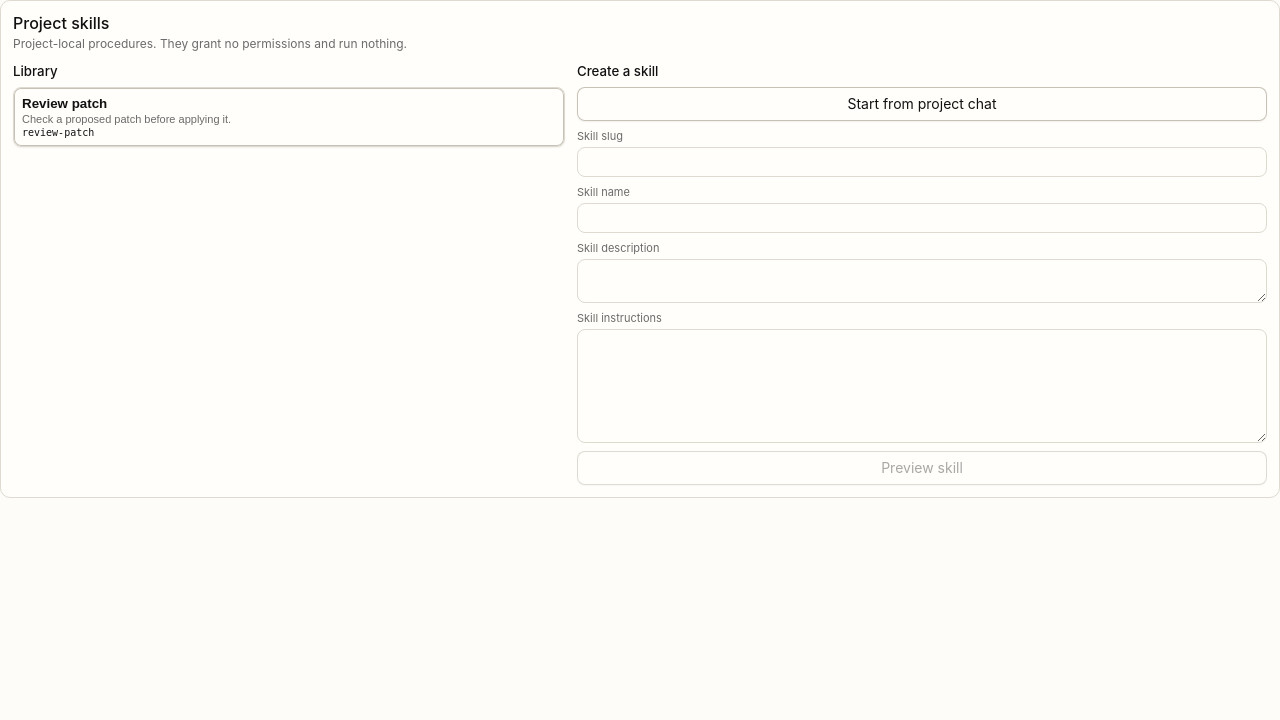
SkillsPanel › requires an exact preview before explicit apply
expect the button "Review patch" is shown: met, box [13,87,565,147]
Type "new-skill" into the field labelled "Skill slug" at (922, 162), box [577,147,1267,177]
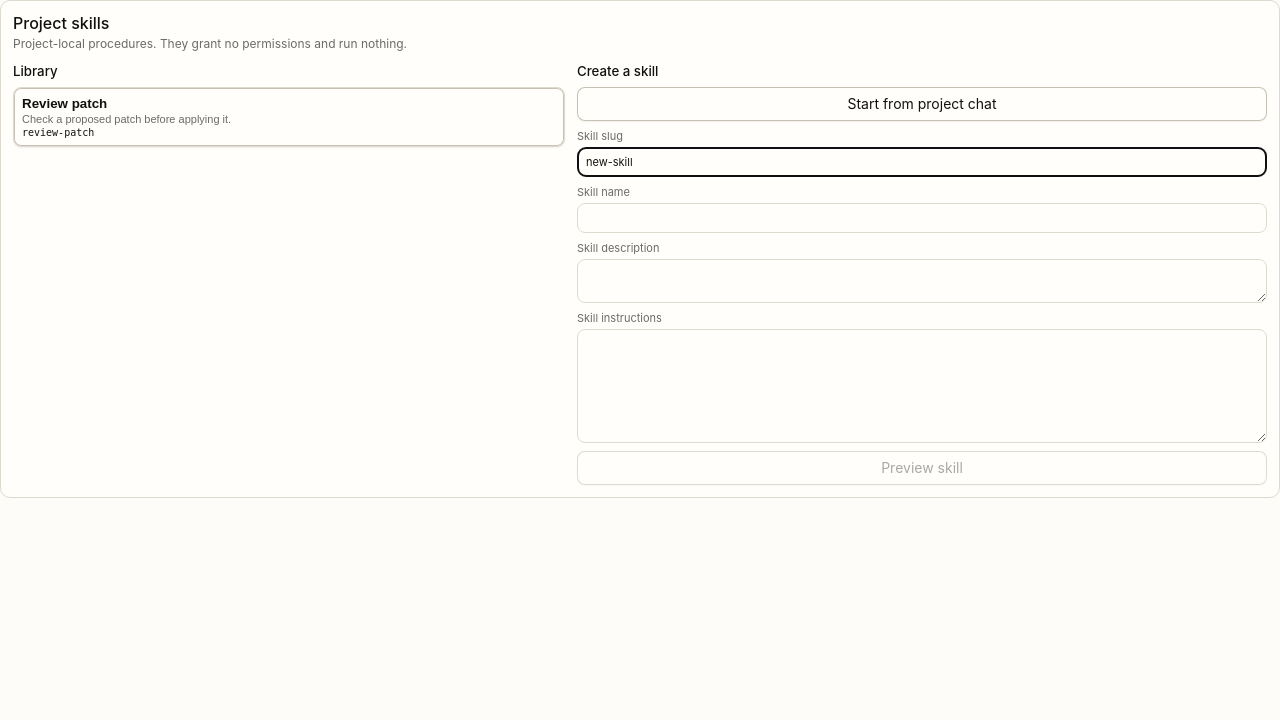
Type "New skill" into the field labelled "Skill name" at (922, 218), box [577,203,1267,233]
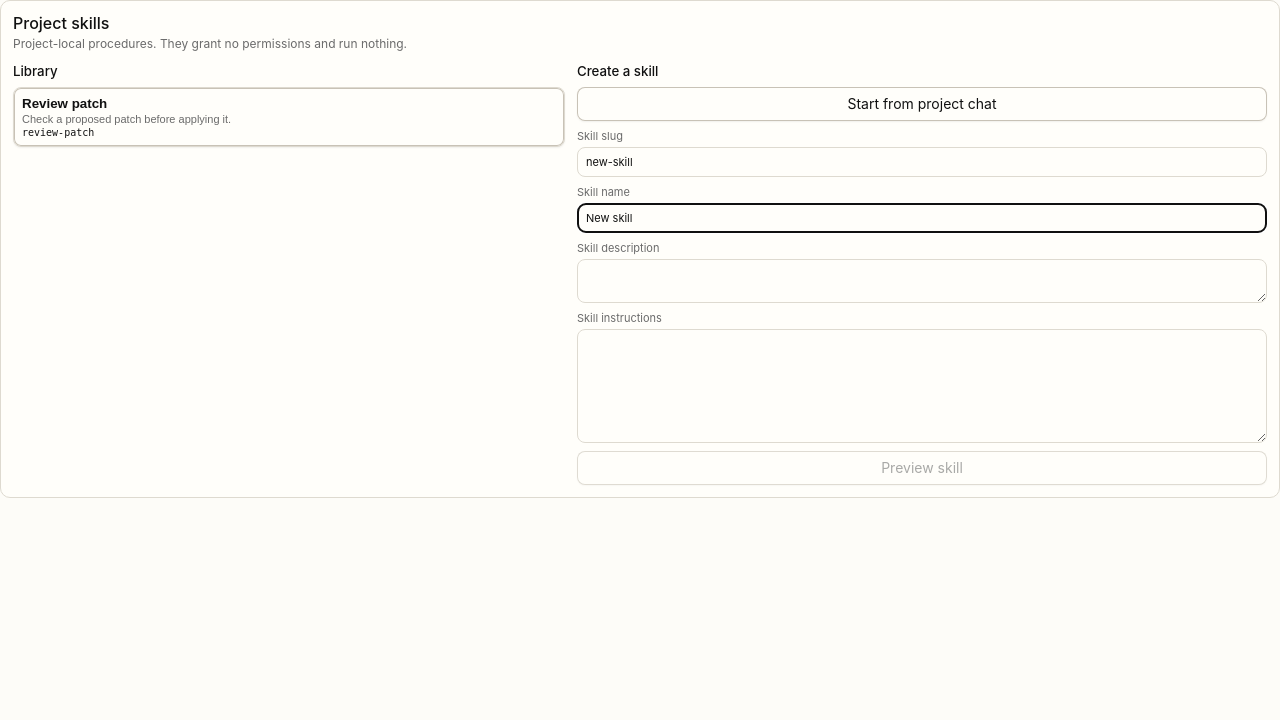
Type "A safe local procedure." into the text box labelled "Skill description" at (922, 281), box [577,259,1267,303]
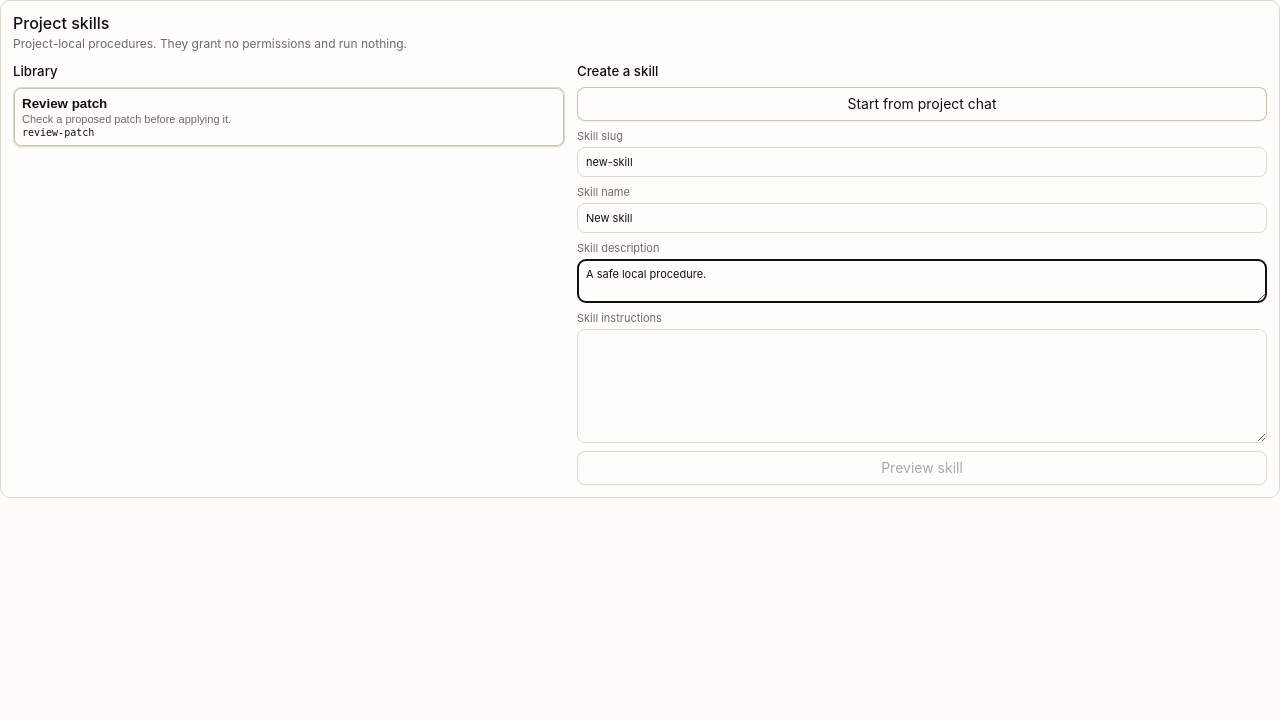
Type "Do the checked steps." into the text box labelled "Skill instructions" at (922, 386), box [577,329,1267,443]
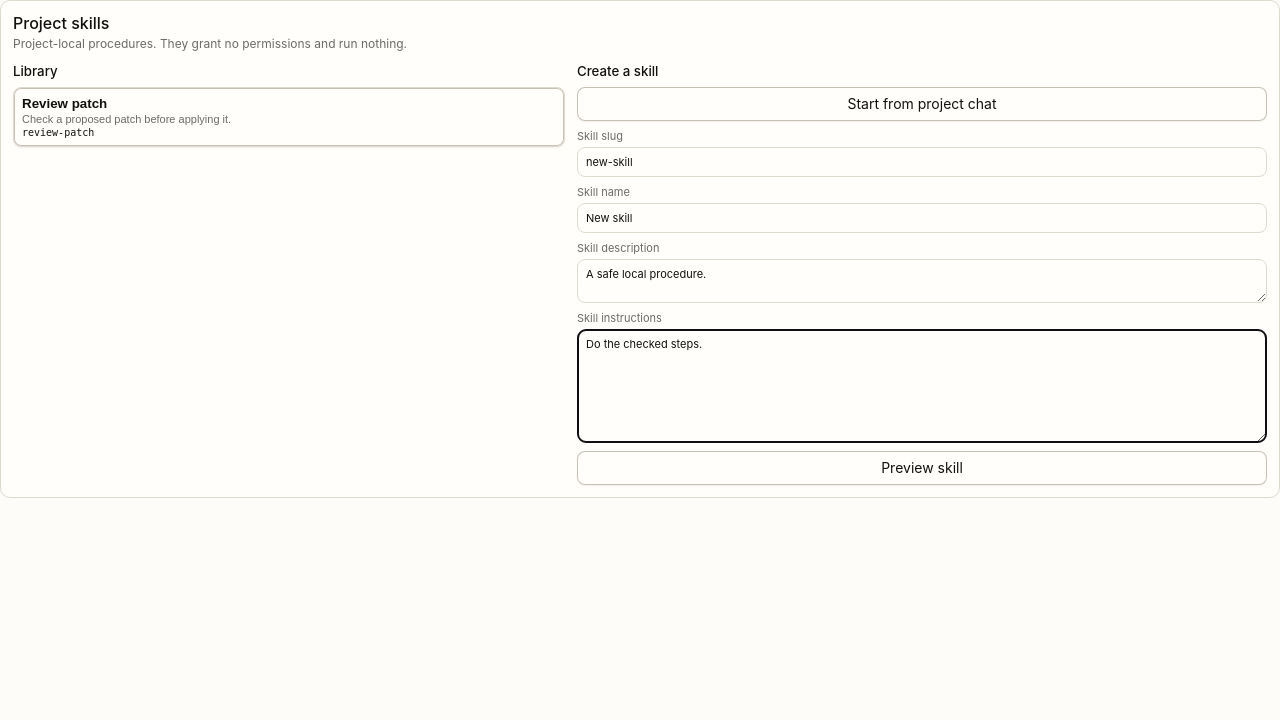
expect the button "Apply skill" is not shown: met
Click the button "Preview skill" at (922, 468), box [577,451,1267,485]
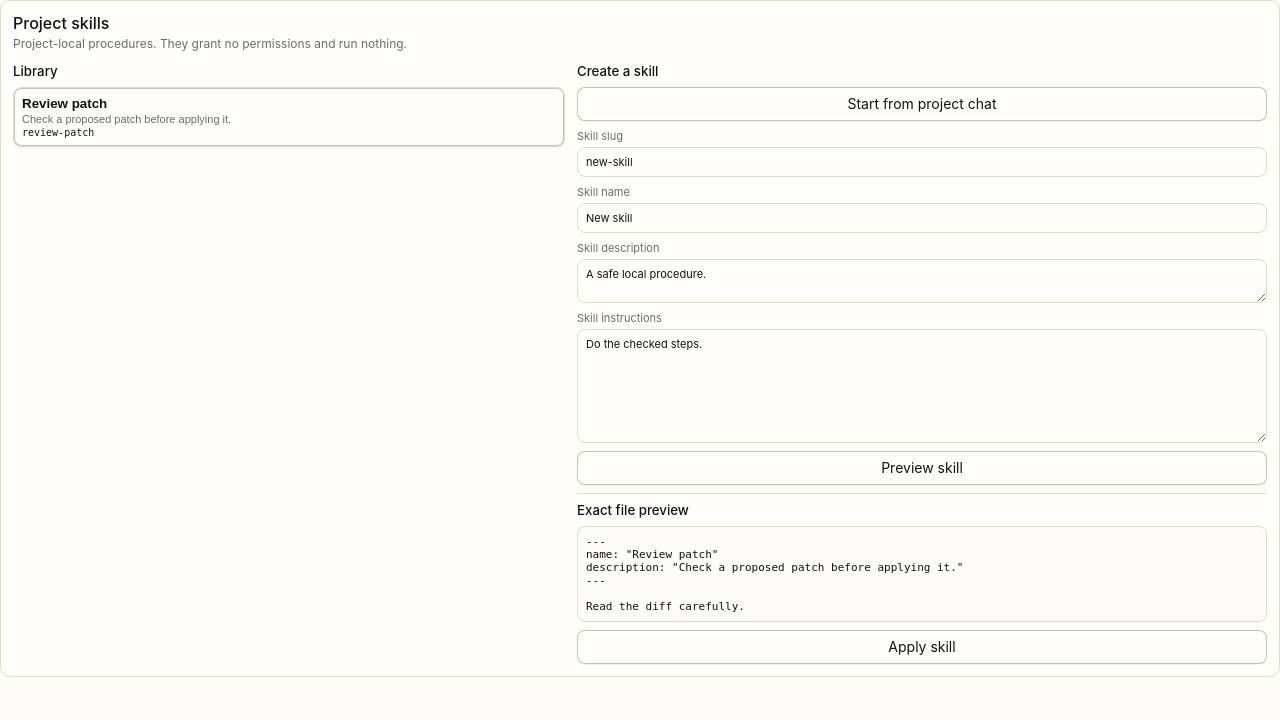
Click the button "Apply skill" at (922, 647), box [577,630,1267,664]
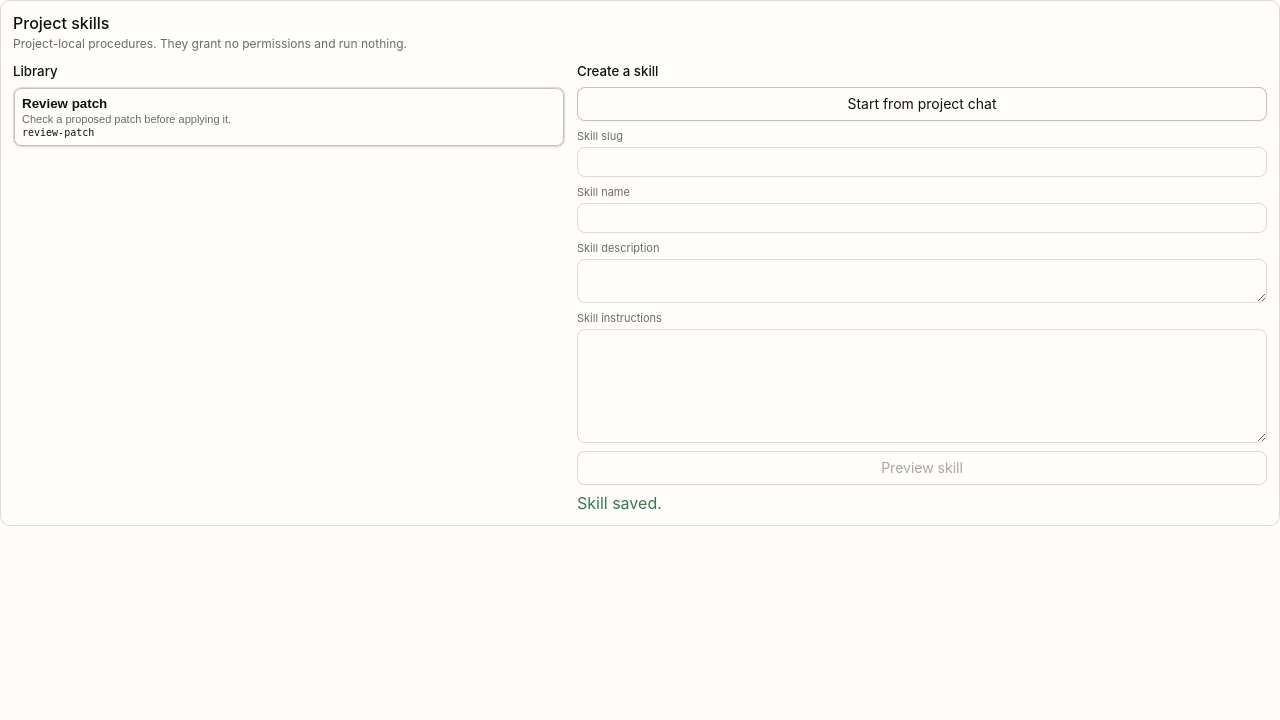
expect the text "Skill saved." is shown: met, box [577,493,662,513]
expect the field labelled "Skill slug" is empty: met, box [577,147,1267,177]
